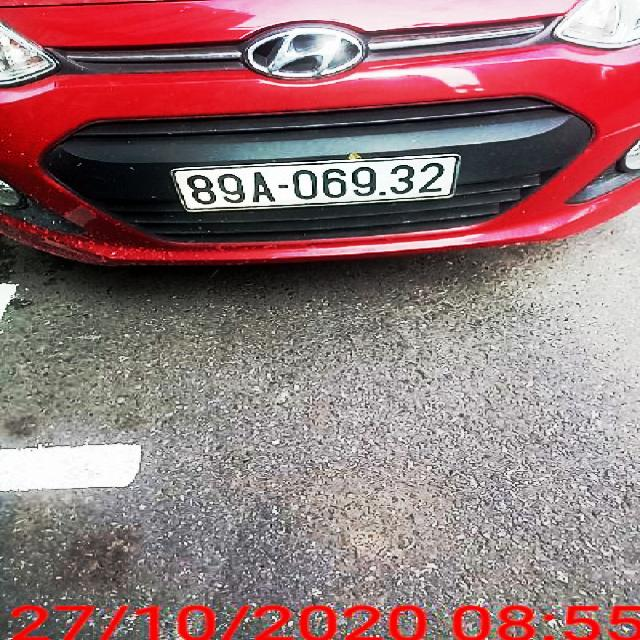license_plate: (174, 155, 463, 212)
